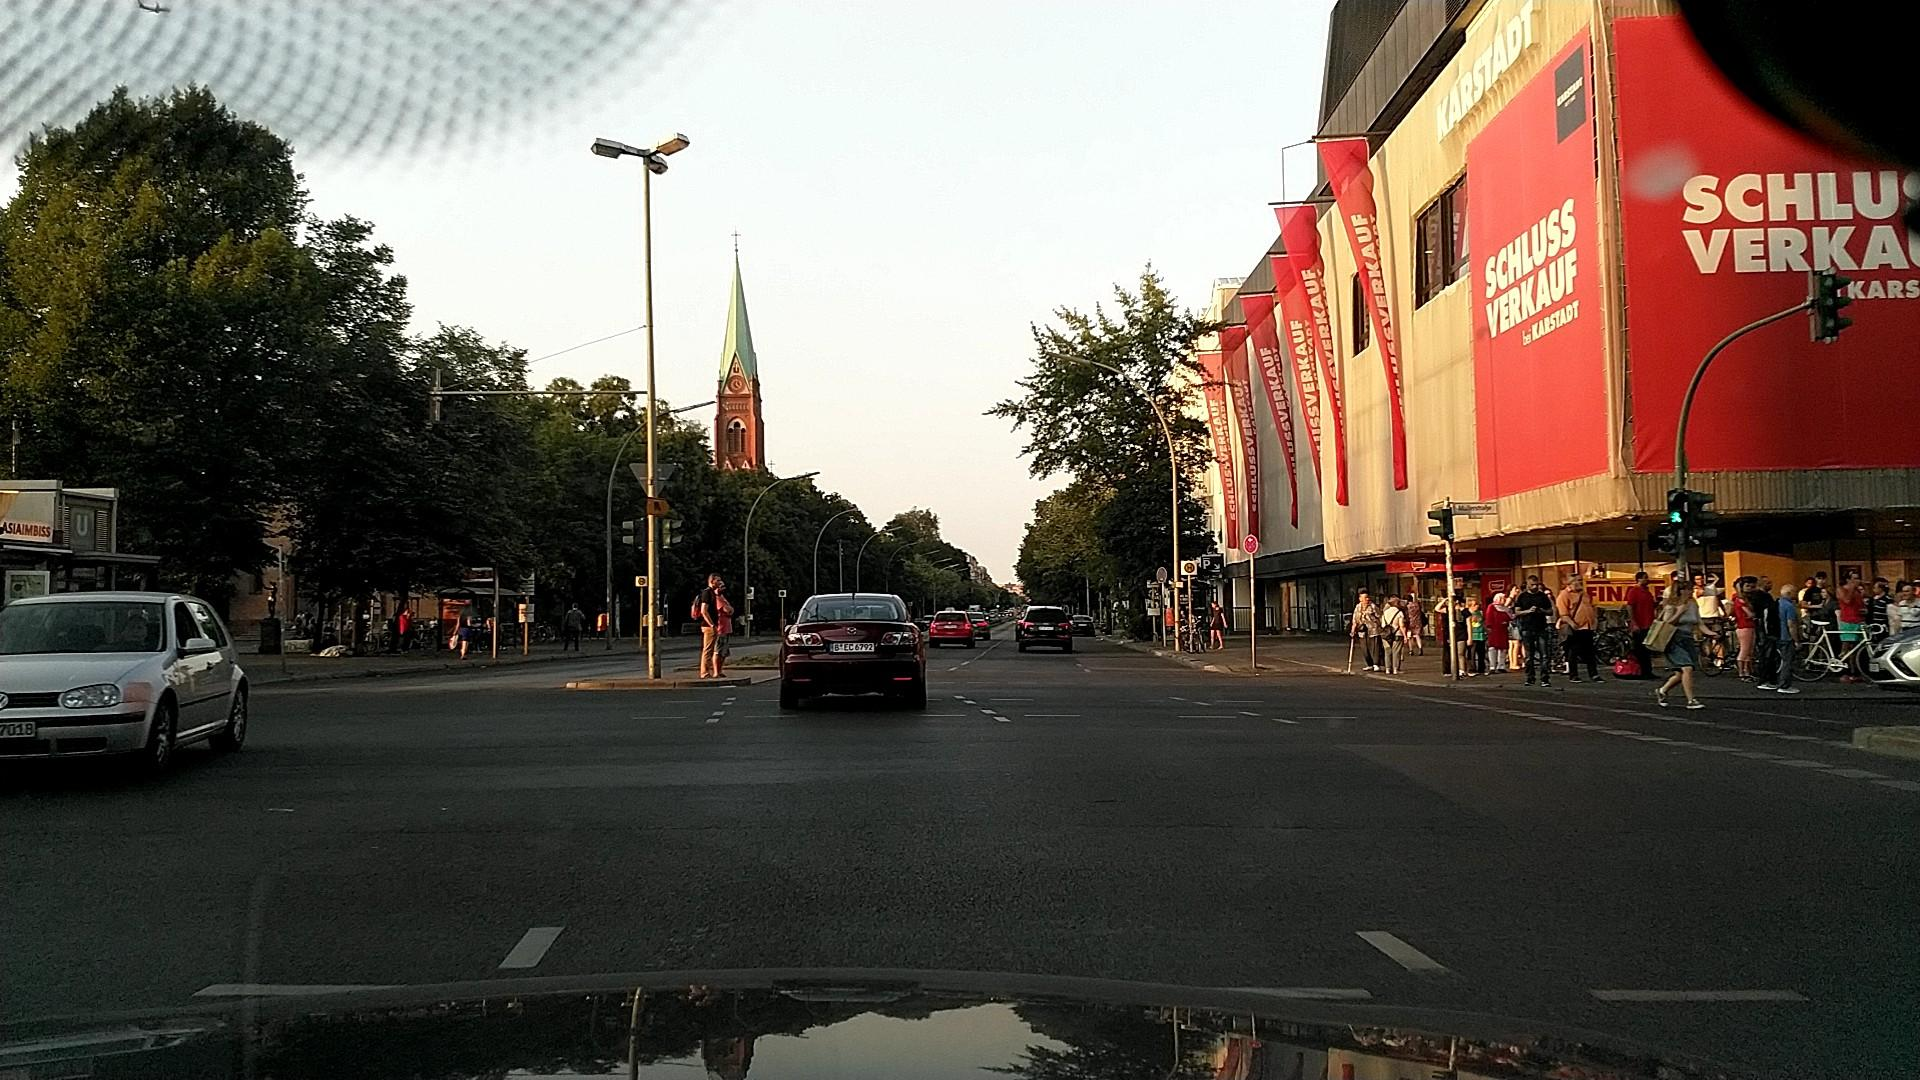Human face: (122, 616, 148, 646), (1676, 579, 1695, 599), (1738, 577, 1755, 595), (1781, 583, 1798, 600), (1569, 574, 1584, 591), (707, 573, 721, 589), (1526, 576, 1539, 594), (1759, 576, 1773, 591), (1871, 579, 1885, 595), (1466, 597, 1480, 613), (1901, 583, 1913, 600), (1357, 592, 1370, 606), (1815, 571, 1827, 586), (1636, 572, 1649, 586), (1494, 593, 1506, 607), (1508, 584, 1520, 596), (717, 581, 726, 594), (1210, 600, 1218, 609)
Vehicle registration plate: (1, 722, 33, 737), (827, 643, 874, 652)
